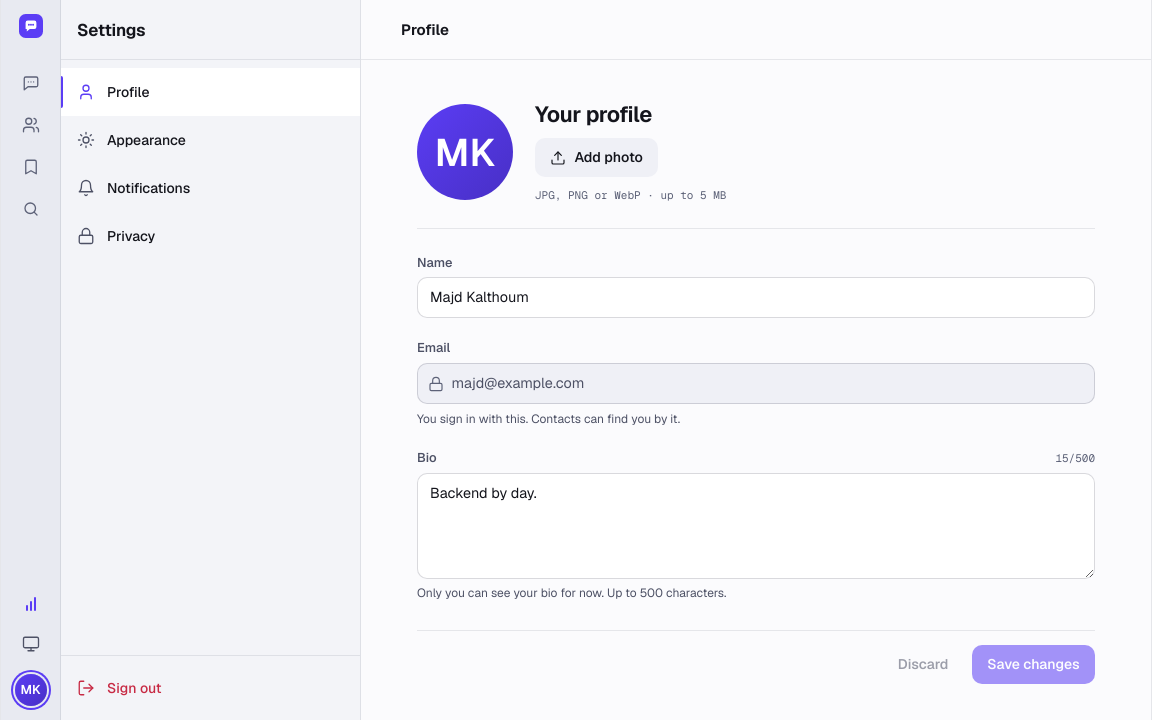
ProfilePage › shows unsaved changes, which Discard puts back
In the field labelled "Name": x=756, y=298 [417,277,1095,318], type " Jr"
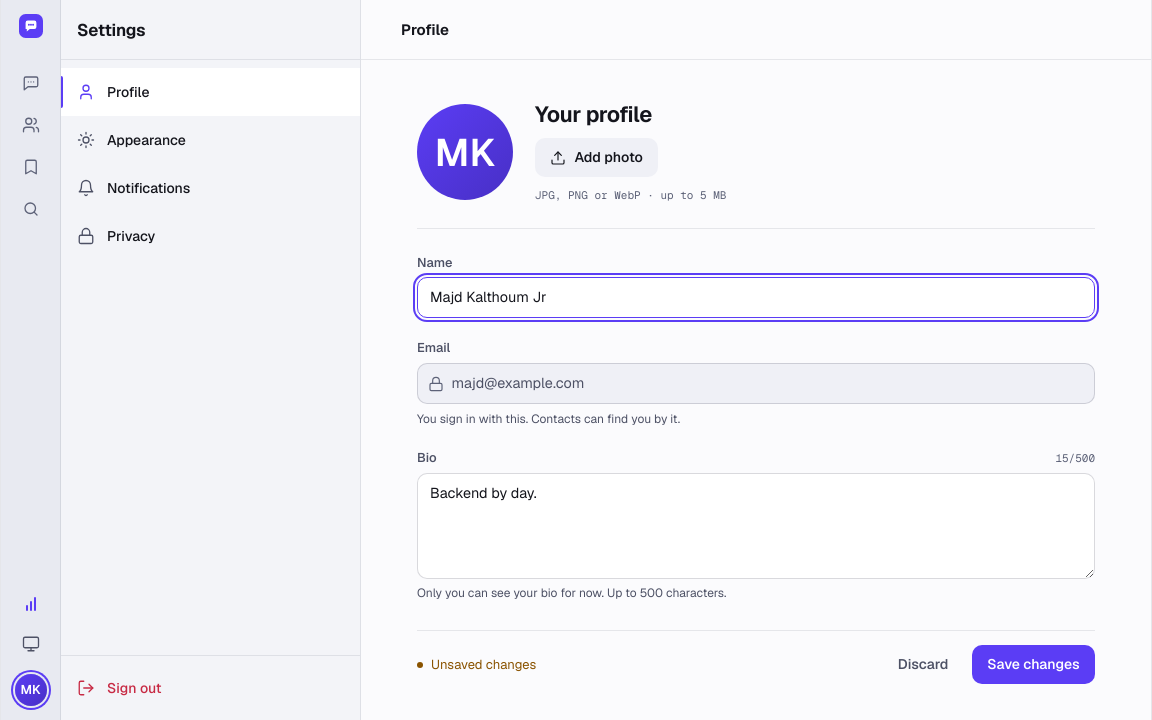
Expected: the text "Unsaved changes" is shown, [417,655,536,674]
Click the button "Discard": x=923, y=665 [882,645,964,684]
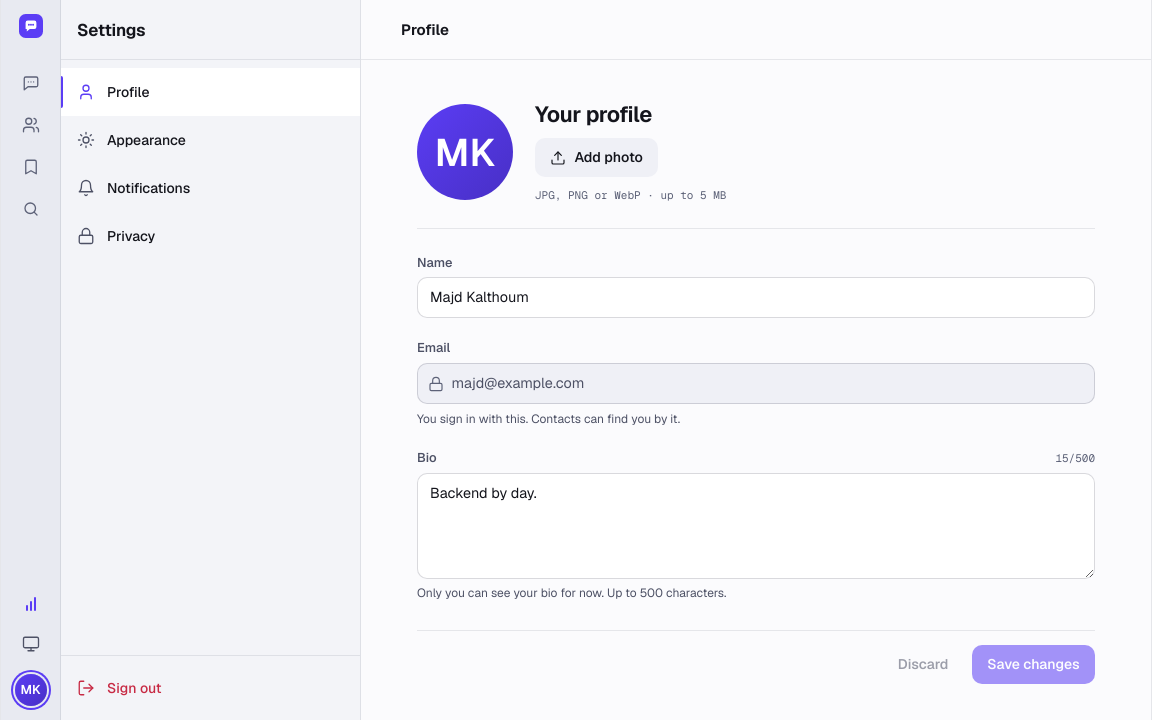
Expected: the field labelled "Name" holds "Majd Kalthoum", [417,277,1095,318]
Expected: the text "Unsaved changes" is gone
